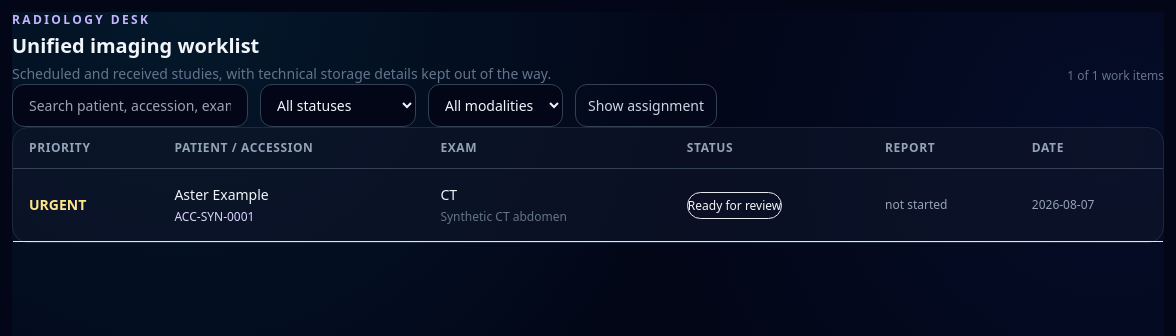
Test case: Imaging Workspace projection › shows worklist status and priority while keeping assignment optional
Check: the heading "Unified imaging worklist" is shown, box [12,32,259,59]
Check: the text "URGENT" is shown, box [29,195,86,214]
Click the button "Show assignment": (646,106) [575,84,717,127]
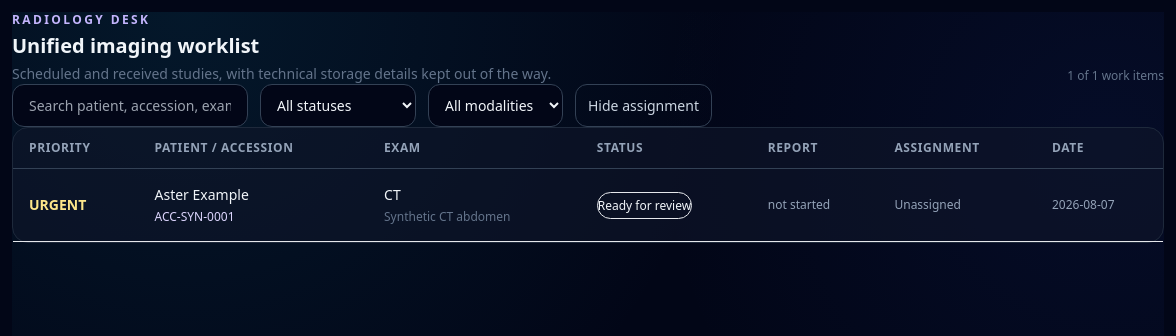
Check: the text "Unassigned" is shown, box [878,168,1036,242]
